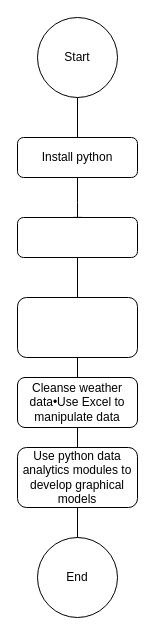
The diagram is 155 pixels wide and 635 high, and some of its shapes have lost their labels. Each missing label, with the centre of its shape:
Download weather data to a database: (x=77, y=237)
Extract weather data from database into a comma separated file with python: (x=77, y=327)
